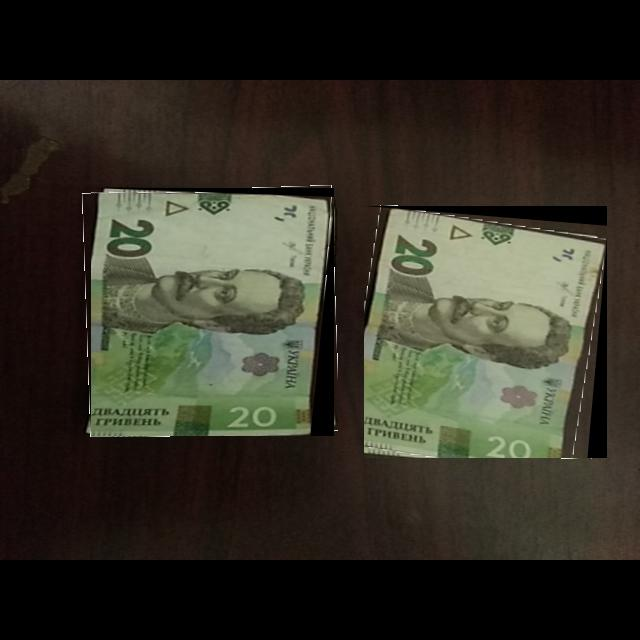20uah: (364, 208, 607, 459), (91, 193, 331, 437)
